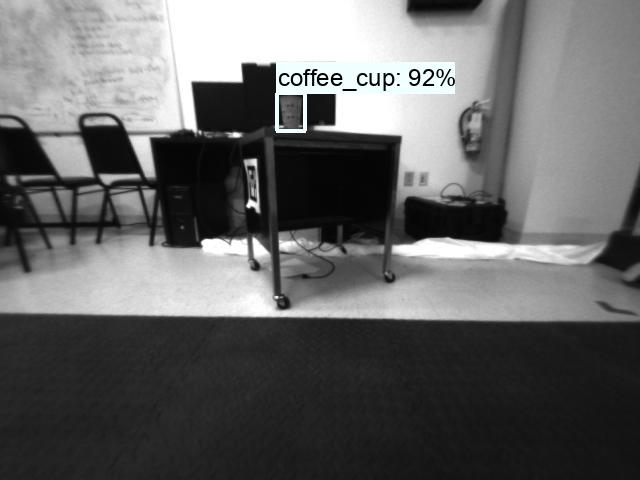coffee_cup: (275, 92, 304, 131)
